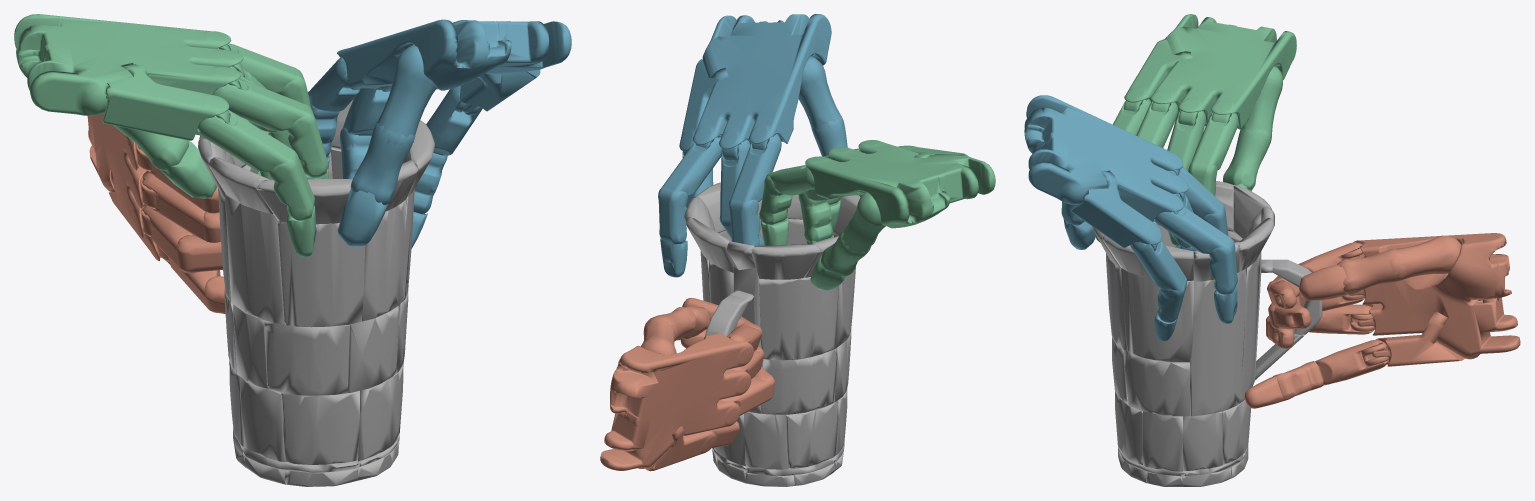
3 views of the same model, side by side, from view 1: azimuth 30°, elevation 25°; view 2: azimuth 150°, elevation 25°; view 3: azimuth 270°, elevation 25° (orthographic). The views are drawn at different scales.
Bounding box in the file's own units: 0.2685 × 0.2819 × 0.3322.
